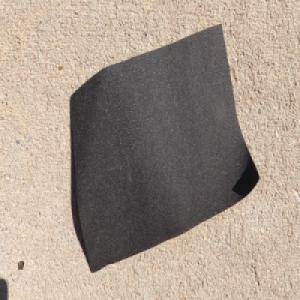PaintChip: (66, 19, 265, 272)
